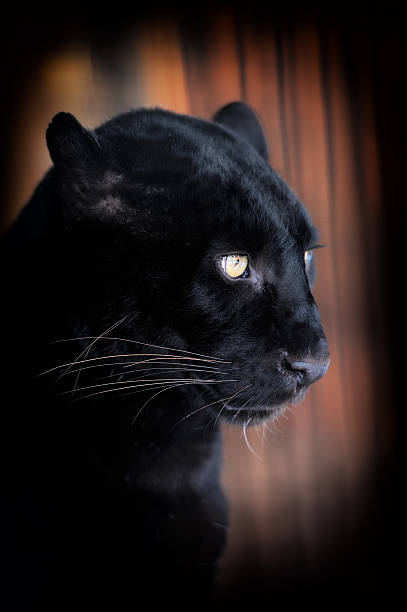panther: (26, 84, 381, 468)
